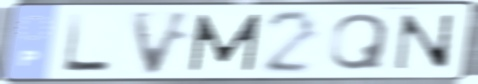2: (260, 7, 327, 78)
L: (59, 12, 115, 75)
M: (187, 12, 265, 74)
N: (392, 12, 456, 72)
Q: (326, 11, 393, 73)
V: (126, 8, 198, 78)
